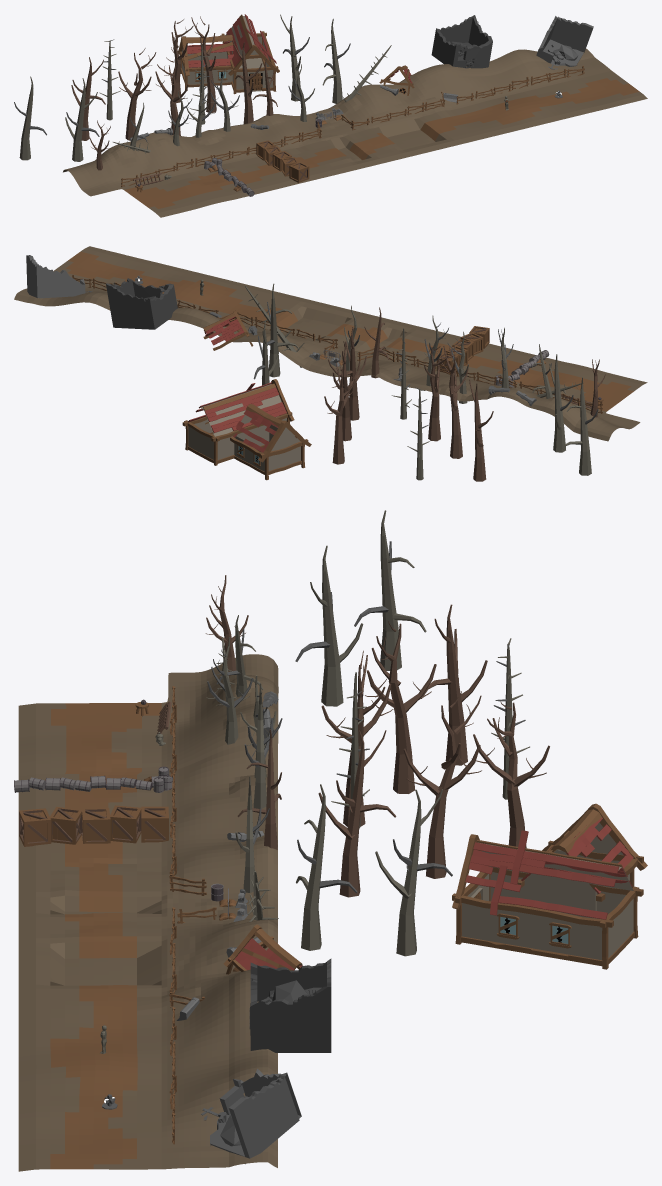
File: Bolum2.fbx
The picture shows the model from 3 angles, top to bottom: view 1: azimuth 30°, elevation 25°; view 2: azimuth 150°, elevation 25°; view 3: azimuth 270°, elevation 25°; orthographic projection. The views are drawn at different scales.
Visible parts, largest first — view 1: Zemin, agac_02, govde_02.001, YikikBina2, YikikBina1, Jump2, çit 4, çit 1, çit 3, Jump1, cati.003, çit 2; view 2: Zemin, agac_02, govde_02.001, YikikBina2, YikikBina1, Jump2, cati.003, çit 1, çit 3, Jump1, çit 2, çit 4; view 3: Zemin, agac_02, govde_02.001, YikikBina2, YikikBina1, Jump2, Jump1, cati.003.
Part boxes in pixels (x1,y1,x2,y2): Zemin: (63,48,647,217); agac_02: (14,14,391,170); govde_02.001: (178,14,279,94); YikikBina2: (431,15,492,68); YikikBina1: (536,16,593,69); Jump2: (256,140,309,182); çit 4: (456,65,584,104); çit 1: (121,147,249,187); çit 3: (341,91,444,130); Jump1: (204,158,254,196); cati.003: (379,65,414,95); çit 2: (248,121,321,153); Zemin: (14,246,647,441); agac_02: (245,283,605,481); govde_02.001: (182,379,311,480); YikikBina2: (106,278,177,329); YikikBina1: (26,255,92,298); Jump2: (436,326,489,374); cati.003: (203,310,253,350); çit 1: (456,369,602,413); çit 3: (217,312,337,354); Jump1: (495,350,549,387); çit 2: (357,347,456,375); çit 4: (72,275,218,313); Zemin: (18,654,278,1171); agac_02: (205,510,549,956); govde_02.001: (452,803,647,969); YikikBina2: (249,958,331,1052); YikikBina1: (201,1069,301,1164); Jump2: (19,805,168,846); Jump1: (14,766,172,792); cati.003: (223,924,302,974).
Bounding box in the file's own units: 8880 × 1496 × 4607.
